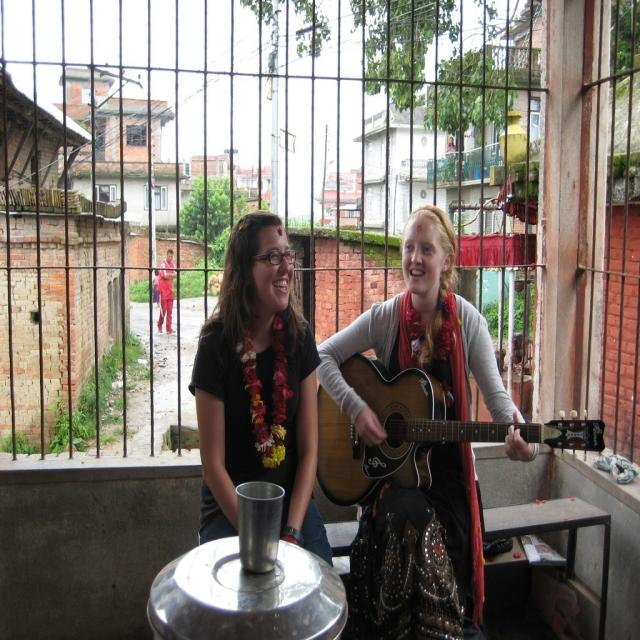guitar: (313, 352, 607, 510)
